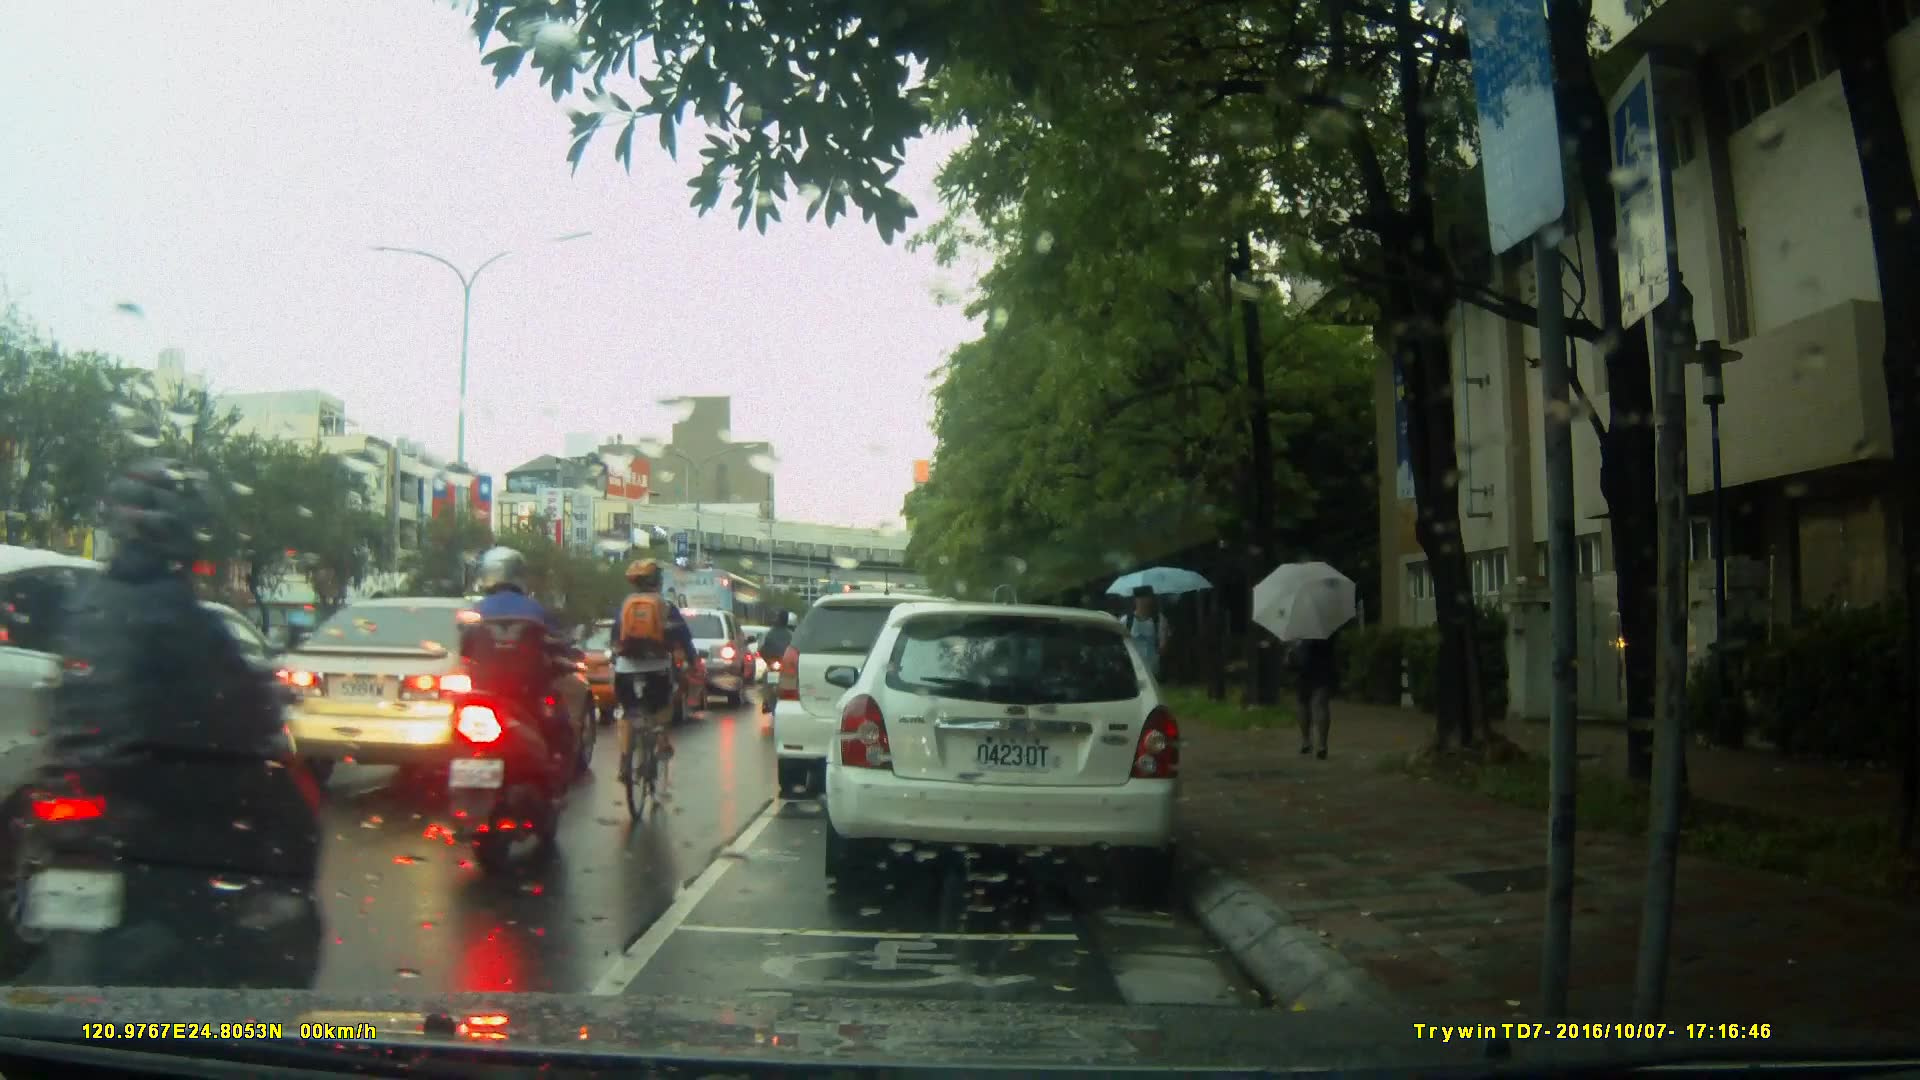pedestrian: (1129, 569, 1184, 783), (1279, 579, 1337, 761)
rider: (10, 460, 328, 1039), (451, 548, 582, 869), (609, 563, 708, 829), (768, 610, 802, 724)
vehicle: (1, 550, 307, 954), (835, 594, 1194, 898), (249, 595, 607, 795), (776, 590, 1026, 784), (558, 619, 709, 726), (654, 565, 769, 673)
